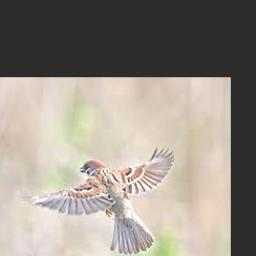Sparrow: (24, 146, 175, 254)
